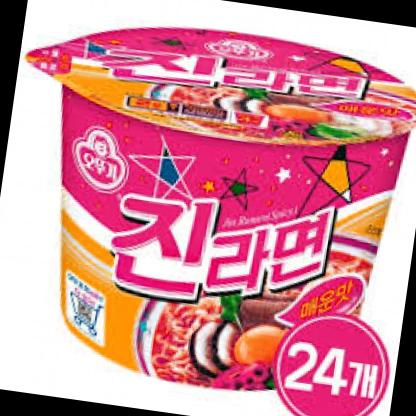Ramen: (0, 7, 416, 414)
